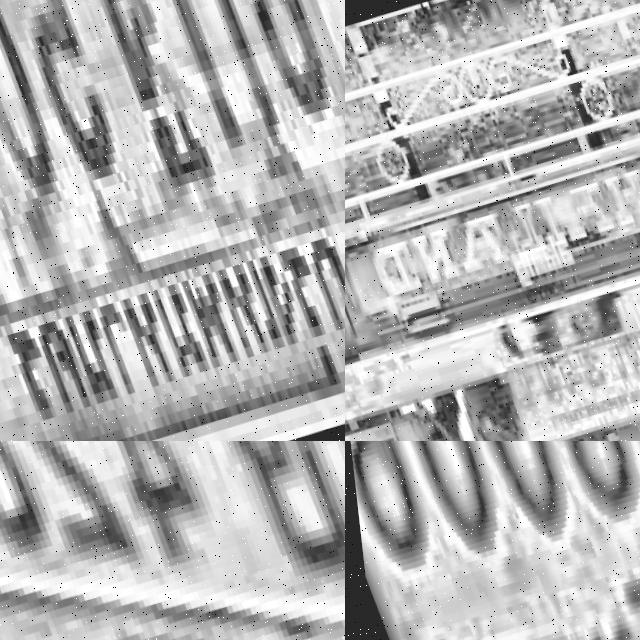license-plate: (0, 0, 345, 441), (0, 441, 345, 640), (345, 441, 640, 640), (462, 304, 640, 441)
